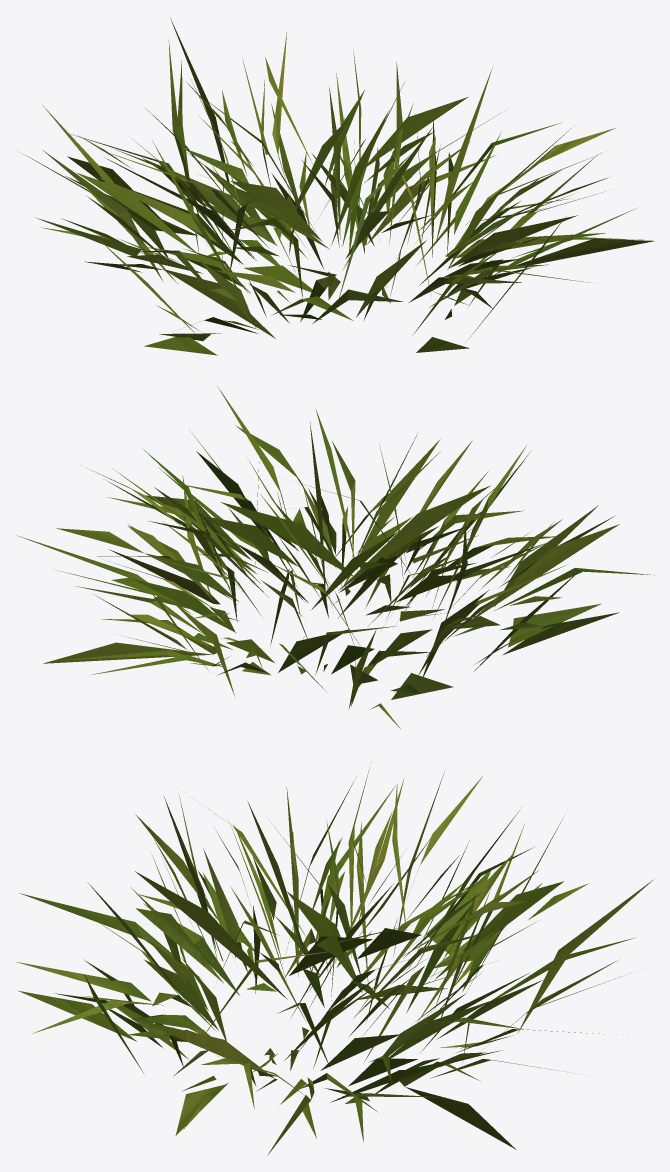
File: Tuft_Meadow_B.glb
3 renders of one model, top to bottom at view 1: azimuth 30°, elevation 25°; view 2: azimuth 150°, elevation 25°; view 3: azimuth 270°, elevation 25°, orthographic. The views are drawn at different scales.
Parts seen in each view (by area): view 1: Tuft_Meadow_B; view 2: Tuft_Meadow_B; view 3: Tuft_Meadow_B.
Part boxes in pixels (x1,y1,x2,y2): Tuft_Meadow_B: (17,18,654,355); Tuft_Meadow_B: (16,386,654,728); Tuft_Meadow_B: (15,767,655,1155).
Size of the model in its own units: 0.5142 by 0.18 by 0.486.
Materials: 1 (1 with a texture image).
